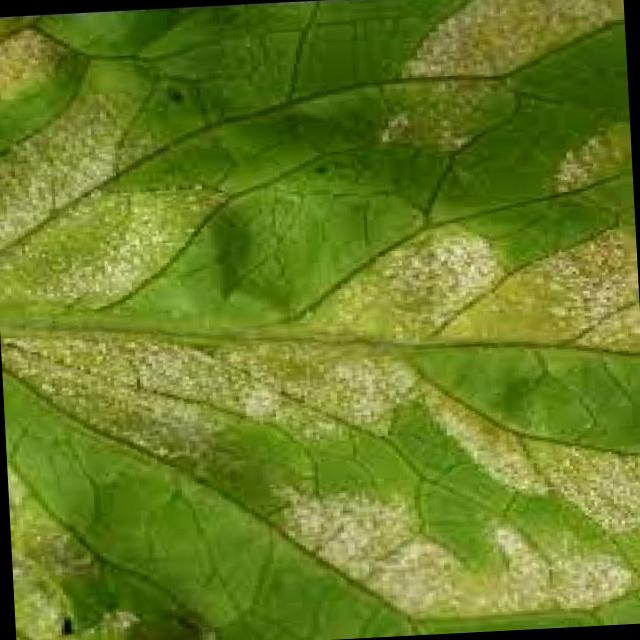Downy_Mildew: (23, 300, 397, 464), (0, 29, 208, 304), (293, 449, 612, 625), (367, 325, 640, 529), (272, 226, 640, 375), (382, 0, 611, 124)
